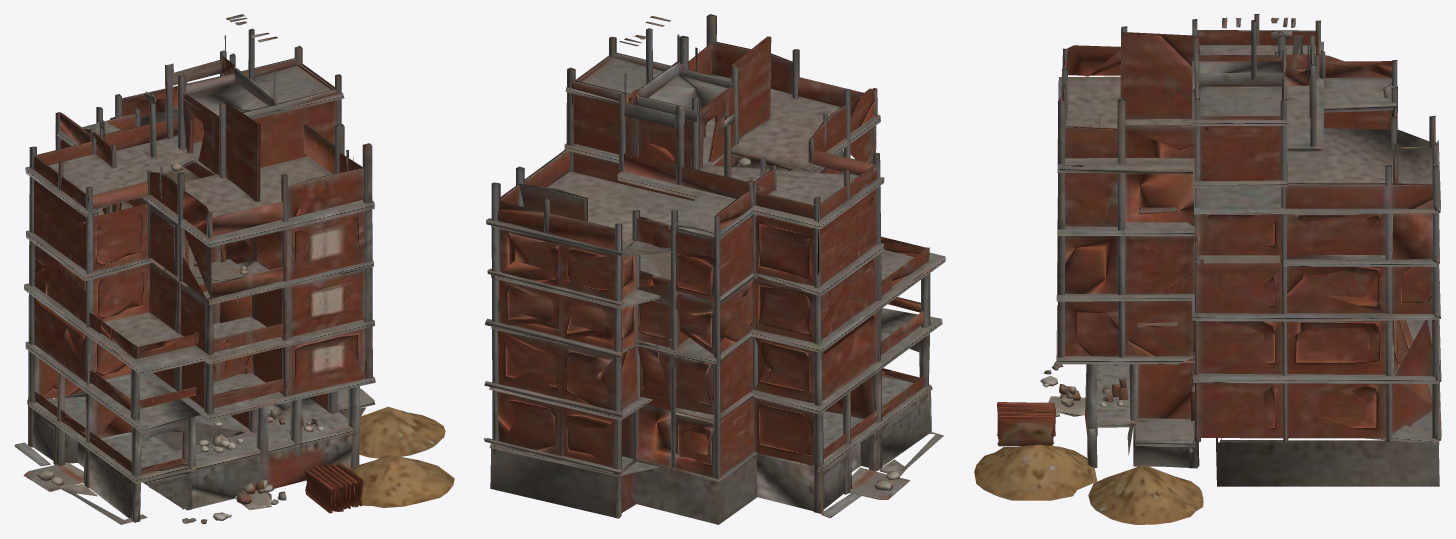
3 views of the same model, side by side, from view 1: azimuth 30°, elevation 25°; view 2: azimuth 150°, elevation 25°; view 3: azimuth 270°, elevation 25° (orthographic). The views are drawn at different scales.
Parts seen in each view (by area): view 1: geometry_0; view 2: geometry_0; view 3: geometry_0.
Boxes of the visible parts, left/top/right/bottom form: geometry_0: left=14, top=14, right=454, bottom=524; geometry_0: left=483, top=14, right=945, bottom=524; geometry_0: left=974, top=14, right=1441, bottom=524.
Size of the model in its own units: 0.98 by 1 by 0.9863.
1 material, 1 textured.
